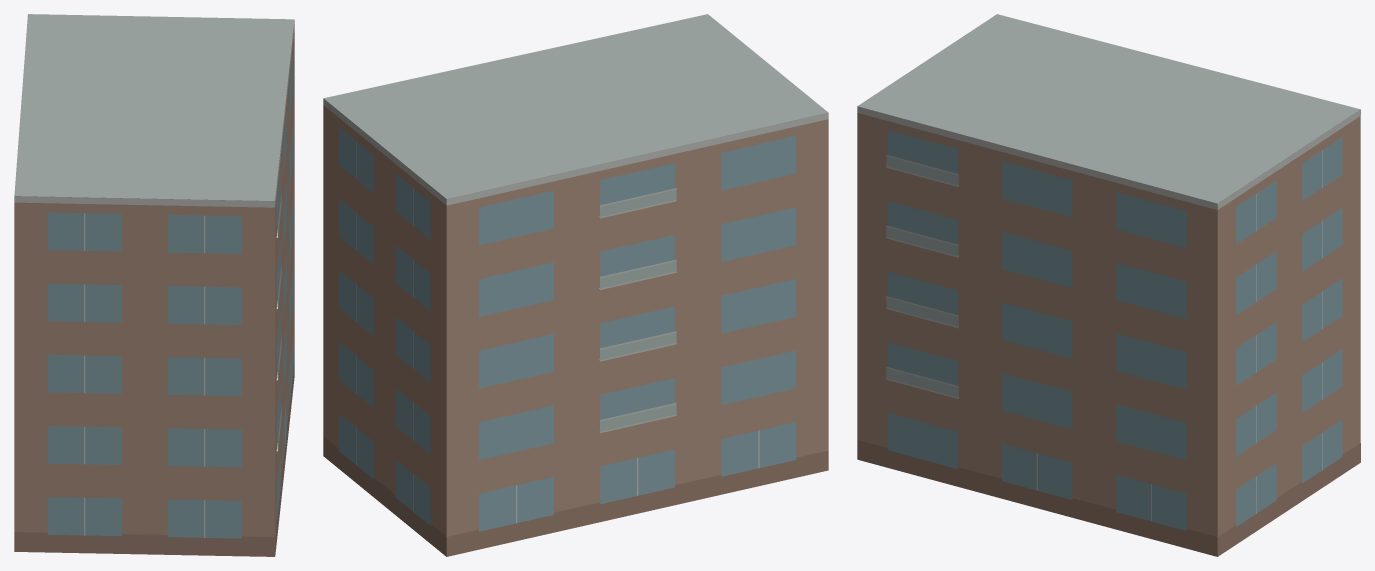
Rendered from survey-upis-32846961.glb.
3 renders of one model, left to right at view 1: azimuth 30°, elevation 25°; view 2: azimuth 150°, elevation 25°; view 3: azimuth 270°, elevation 25°, orthographic.
Visible parts, largest first — view 1: survey-upis-32846961.tmp; view 2: survey-upis-32846961.tmp; view 3: survey-upis-32846961.tmp.
Boxes of the visible parts, x1,y1,x2,y2 form: survey-upis-32846961.tmp: [14, 14, 294, 556]; survey-upis-32846961.tmp: [323, 14, 828, 556]; survey-upis-32846961.tmp: [857, 14, 1360, 556].
Size of the model in its own units: 15.2 by 13.2 by 17.06.
